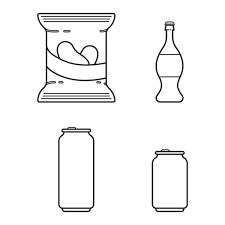can: (55, 126, 100, 217), (152, 147, 192, 214)
